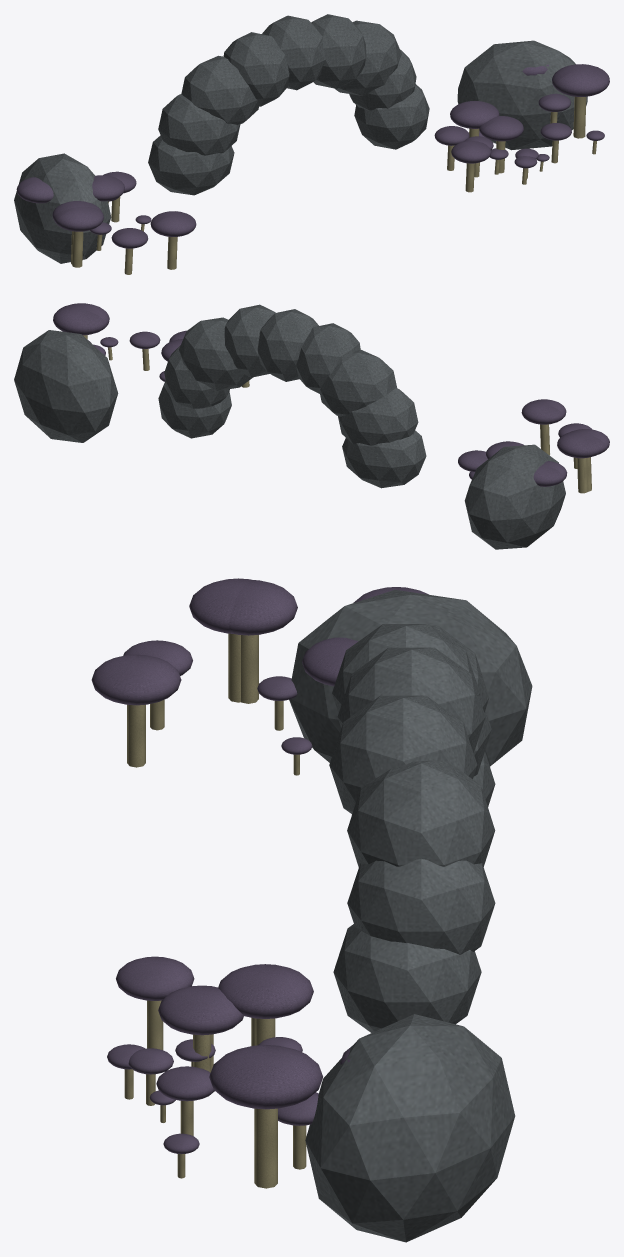
The model's file is dungeonMushroom-v1.glb.
3 renders of one model, top to bottom at view 1: azimuth 30°, elevation 25°; view 2: azimuth 150°, elevation 25°; view 3: azimuth 270°, elevation 25°, orthographic. The views are drawn at different scales.
Visible parts, largest first — view 1: Weathered cave rock, Fractured rock outcrop, Fungus cap 0, Fungus stalk 0; view 2: Weathered cave rock, Fractured rock outcrop, Fungus cap 0, Fungus stalk 0; view 3: Weathered cave rock, Fractured rock outcrop, Fungus cap 0, Fungus stalk 0.
Boxes of the visible parts, box(x1,y1,x2,y2) form: Weathered cave rock: box(148, 14, 429, 195); Fractured rock outcrop: box(14, 40, 587, 263); Fungus cap 0: box(16, 64, 609, 248); Fungus stalk 0: box(71, 96, 596, 274); Weathered cave rock: box(158, 304, 426, 488); Fractured rock outcrop: box(14, 330, 565, 549); Fungus cap 0: box(53, 303, 609, 486); Fungus stalk 0: box(83, 335, 591, 493); Weathered cave rock: box(329, 624, 495, 1032); Fractured rock outcrop: box(289, 589, 532, 1242); Fungus cap 0: box(91, 578, 428, 1154); Fungus stalk 0: box(124, 633, 306, 1188).
Size of what is drawn, in the model's own units: 17.18 by 5.39 by 5.95.
Materials: 3 (3 with a texture image).
